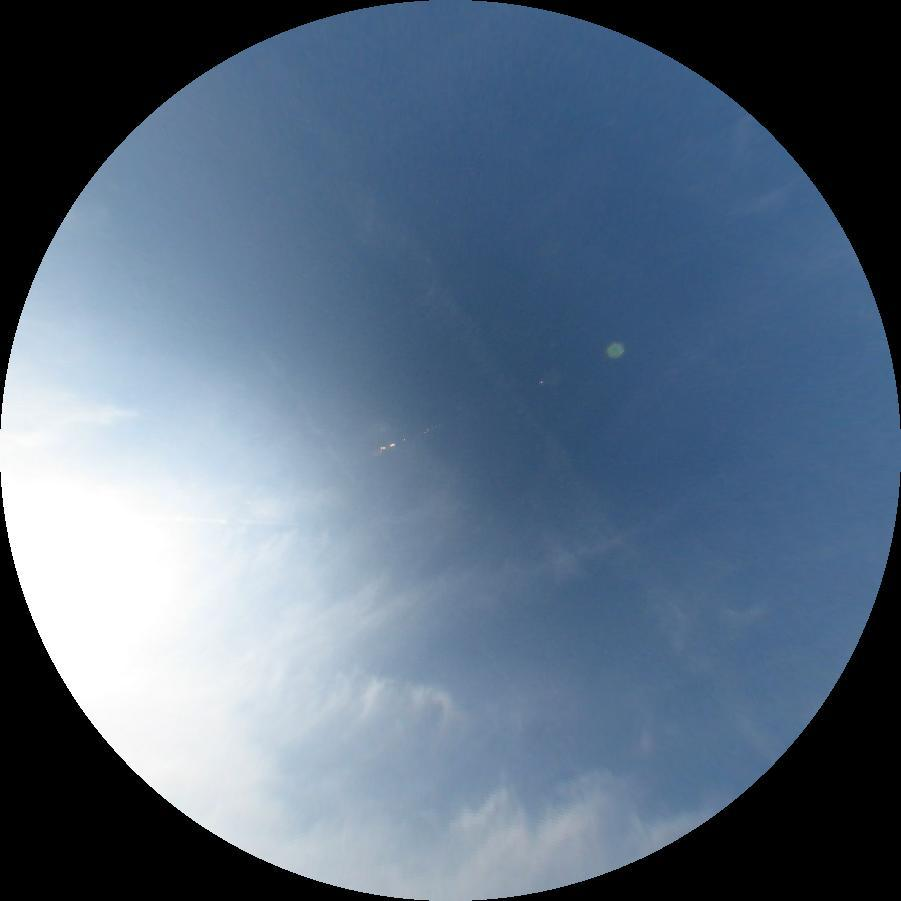contrail old: (259, 348, 371, 497)
contrail veryold: (301, 119, 786, 780)
parasite: (134, 513, 306, 528)
